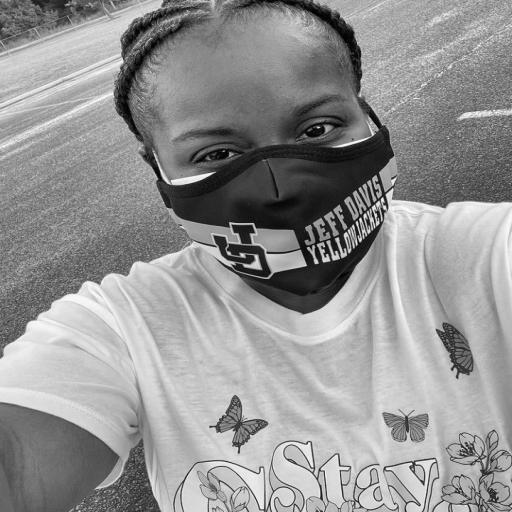mask: (154, 61, 400, 296)
